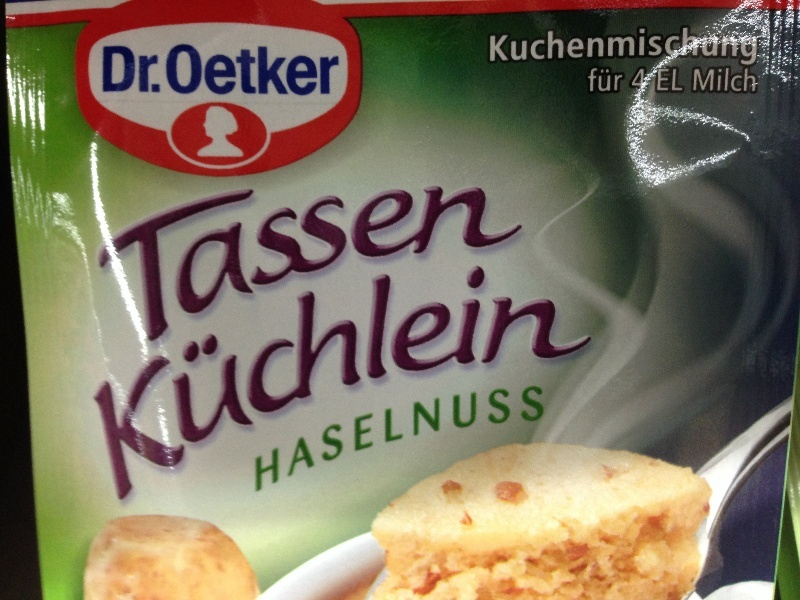text: (97, 233, 112, 503), (113, 233, 128, 503), (129, 233, 144, 503), (145, 233, 160, 503), (161, 233, 176, 503), (177, 233, 192, 503), (193, 233, 208, 503), (209, 233, 224, 503), (225, 233, 240, 503), (241, 233, 256, 503), (257, 233, 272, 503), (273, 233, 288, 503), (289, 233, 304, 503), (305, 233, 320, 503), (321, 233, 336, 503), (337, 233, 352, 503), (353, 233, 368, 503), (369, 233, 384, 503), (385, 233, 400, 503), (401, 233, 416, 503), (417, 233, 432, 503), (433, 233, 448, 503), (449, 233, 464, 503), (465, 233, 480, 503), (481, 233, 496, 503), (497, 233, 512, 503), (513, 233, 528, 503), (529, 233, 544, 503), (545, 233, 560, 503), (561, 233, 576, 503), (577, 233, 592, 503), (97, 120, 112, 343), (113, 120, 128, 343), (129, 120, 144, 343), (145, 120, 160, 343), (161, 120, 176, 343), (177, 120, 192, 343), (193, 120, 208, 343), (209, 120, 224, 343), (225, 120, 240, 343), (241, 120, 256, 343), (257, 120, 272, 343), (273, 120, 288, 343), (289, 120, 304, 343), (305, 120, 320, 343), (321, 120, 336, 343), (337, 120, 352, 343), (353, 120, 368, 343), (369, 120, 384, 343), (385, 120, 400, 343), (401, 120, 416, 343), (417, 120, 432, 343), (433, 120, 448, 343), (449, 120, 464, 343), (465, 120, 480, 343), (481, 120, 496, 343), (497, 120, 512, 343), (513, 120, 528, 343), (593, 233, 605, 503), (84, 120, 96, 343), (88, 233, 96, 503), (257, 373, 272, 499), (273, 373, 288, 499), (289, 373, 304, 499), (305, 373, 320, 499), (321, 373, 336, 499), (337, 373, 352, 499), (353, 373, 368, 499), (369, 373, 384, 499), (385, 373, 400, 499), (401, 373, 416, 499), (417, 373, 432, 499), (433, 373, 448, 499), (449, 373, 464, 499), (465, 373, 480, 499), (481, 373, 496, 499), (497, 373, 512, 499), (513, 373, 528, 499), (529, 373, 544, 499), (113, 43, 128, 95), (129, 43, 144, 95), (145, 43, 160, 95), (161, 43, 176, 95), (177, 43, 192, 95), (193, 43, 208, 95), (209, 43, 224, 95), (225, 43, 240, 95), (241, 43, 256, 95), (257, 43, 272, 95), (273, 43, 288, 95), (289, 43, 304, 95), (305, 43, 320, 95), (321, 43, 336, 95), (545, 373, 550, 499), (497, 26, 512, 67), (513, 26, 528, 67), (529, 26, 544, 67), (545, 26, 560, 67), (561, 26, 576, 67), (577, 26, 592, 67), (593, 26, 608, 67), (609, 26, 624, 67), (625, 26, 640, 67), (641, 26, 656, 67), (657, 26, 672, 67), (673, 26, 688, 67), (689, 26, 704, 67), (705, 26, 720, 67), (721, 26, 736, 67), (737, 26, 752, 67), (252, 373, 256, 499), (103, 43, 112, 95), (337, 43, 346, 95), (705, 67, 720, 96), (721, 67, 736, 96), (737, 67, 752, 96), (657, 68, 672, 95), (593, 68, 608, 93), (609, 68, 624, 93), (673, 68, 686, 95), (488, 26, 496, 67), (693, 67, 704, 96), (753, 26, 760, 67), (630, 68, 640, 96), (641, 68, 651, 96), (529, 120, 530, 343), (753, 67, 759, 96), (587, 68, 592, 93), (625, 68, 626, 93)
